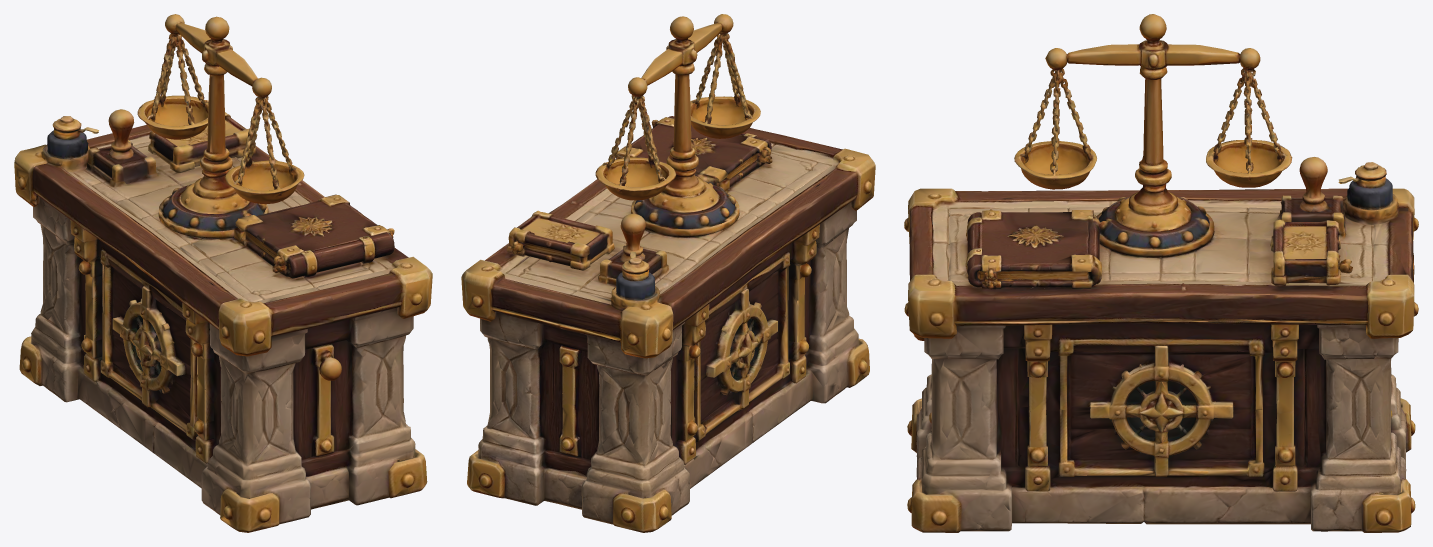
Rendered from prop_rookdesk.glb.
3 renders of one model, left to right at view 1: azimuth 30°, elevation 25°; view 2: azimuth 150°, elevation 25°; view 3: azimuth 270°, elevation 25°, orthographic. The views are drawn at different scales.
Visible parts, largest first — view 1: tripo_node_6fa7f07e-42f1-446f-8acf-2c629cd45838; view 2: tripo_node_6fa7f07e-42f1-446f-8acf-2c629cd45838; view 3: tripo_node_6fa7f07e-42f1-446f-8acf-2c629cd45838.
Part boxes in pixels (x1=…): tripo_node_6fa7f07e-42f1-446f-8acf-2c629cd45838: x1=14, y1=14, x2=432, y2=532; tripo_node_6fa7f07e-42f1-446f-8acf-2c629cd45838: x1=461, y1=14, x2=875, y2=532; tripo_node_6fa7f07e-42f1-446f-8acf-2c629cd45838: x1=904, y1=14, x2=1418, y2=532.
Bounding box in the file's own units: 0.4991 × 0.9732 × 0.9806.
1 material, 1 textured.
